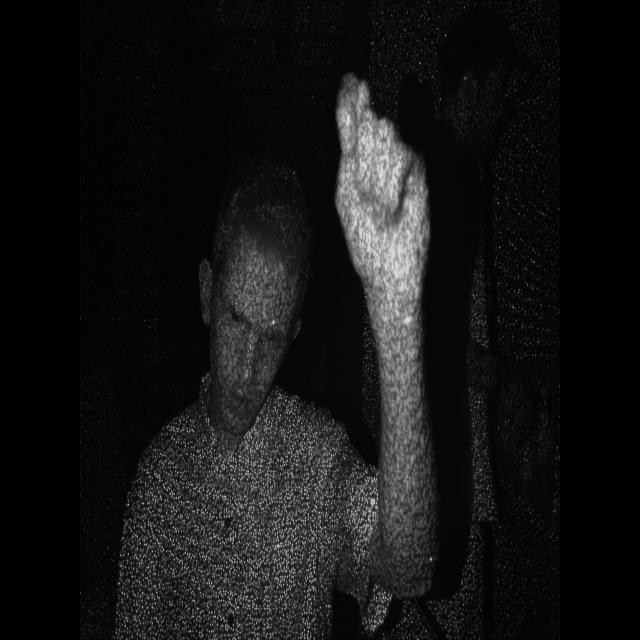T: (326, 56, 442, 310)
